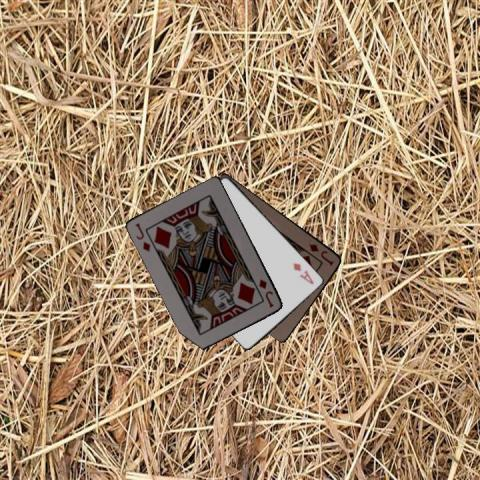Ad: (291, 260, 315, 286)
Jd: (306, 240, 335, 266), (132, 220, 152, 253), (256, 276, 275, 309)
